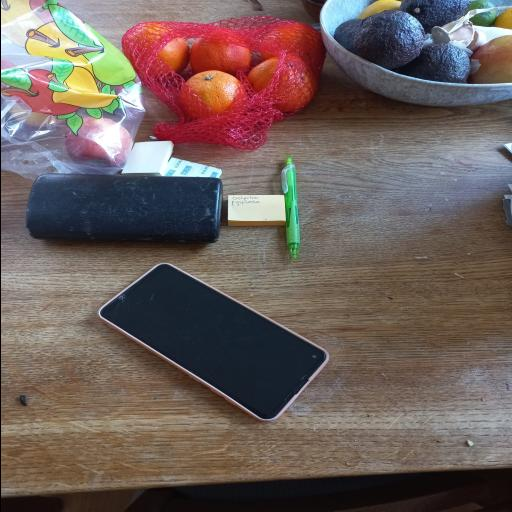phone: (98, 264, 327, 420)
